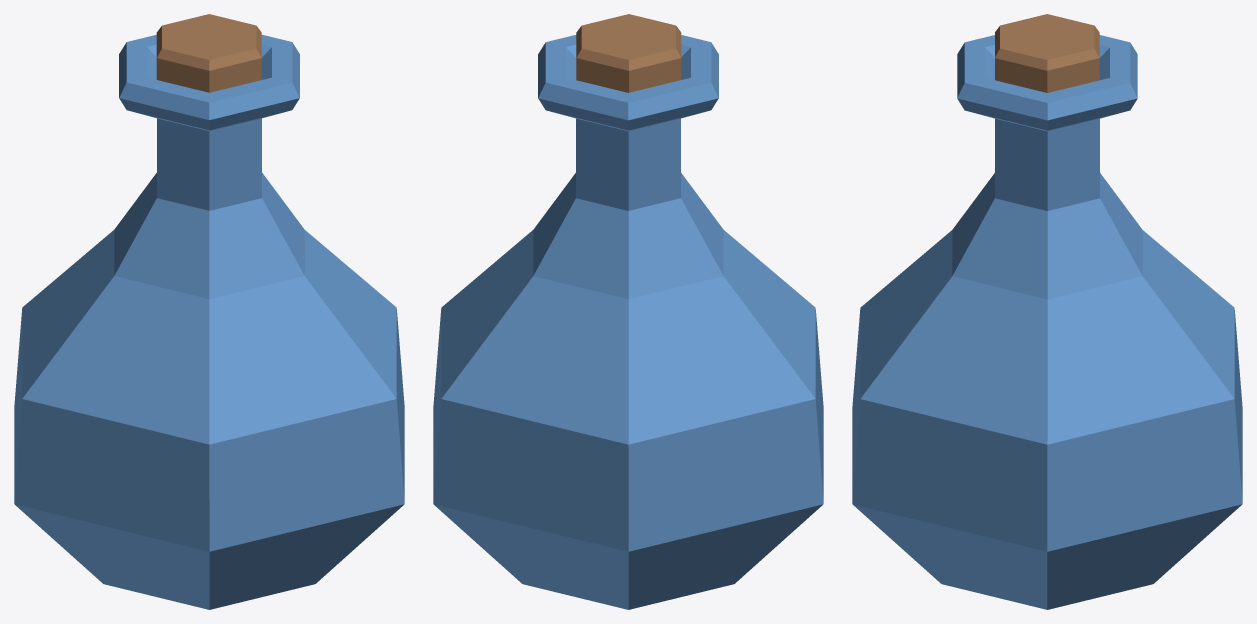
Rendered from Blue_Potion_3.fbx.
3 views of the same model, side by side, from view 1: azimuth 30°, elevation 25°; view 2: azimuth 150°, elevation 25°; view 3: azimuth 270°, elevation 25° (orthographic).
Parts seen in each view (by area): view 1: Blue_Potion_3; view 2: Blue_Potion_3; view 3: Blue_Potion_3.
Part boxes in pixels (x1=…): Blue_Potion_3: x1=14, y1=14, x2=404, y2=609; Blue_Potion_3: x1=433, y1=14, x2=823, y2=609; Blue_Potion_3: x1=852, y1=14, x2=1242, y2=609.
Bounding box in the file's own units: 21.88 × 27.9 × 18.95.
